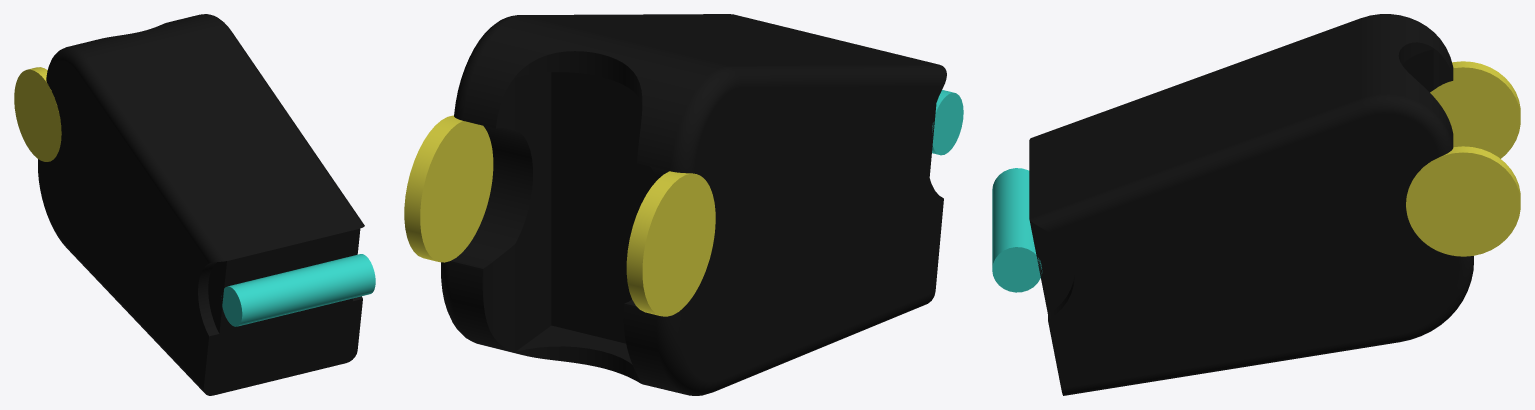
Rendered from calf_sinister.obj.
The picture shows the model from 3 angles, left to right: view 1: azimuth 30°, elevation 25°; view 2: azimuth 150°, elevation 25°; view 3: azimuth 270°, elevation 25°; orthographic projection. The views are drawn at different scales.
Visible parts, largest first — view 1: Body2, Body3, Body5; view 2: Body2, Body5, Body4, Body3; view 3: Body2, Body4, Body5, Body3.
Boxes of the visible parts, x1,y1,x2,y2 form: Body2: (38, 14, 364, 395); Body3: (221, 254, 375, 326); Body5: (14, 67, 61, 161); Body2: (441, 14, 946, 395); Body5: (626, 171, 715, 316); Body4: (404, 115, 493, 262); Body3: (932, 90, 963, 155); Body2: (1029, 14, 1473, 395); Body4: (1406, 146, 1520, 256); Body5: (1430, 61, 1520, 158); Body3: (992, 168, 1042, 292).
Size of the model in its own units: 0.15 by 0.2306 by 0.3676.
